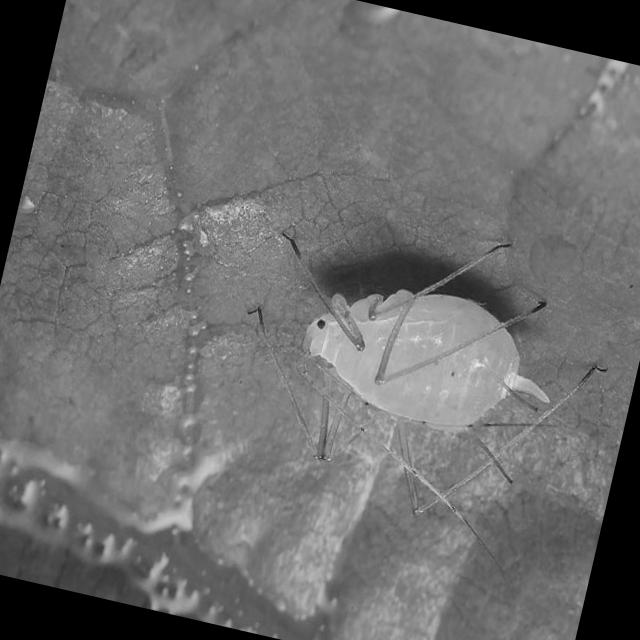Aphids: (173, 161, 602, 570)
